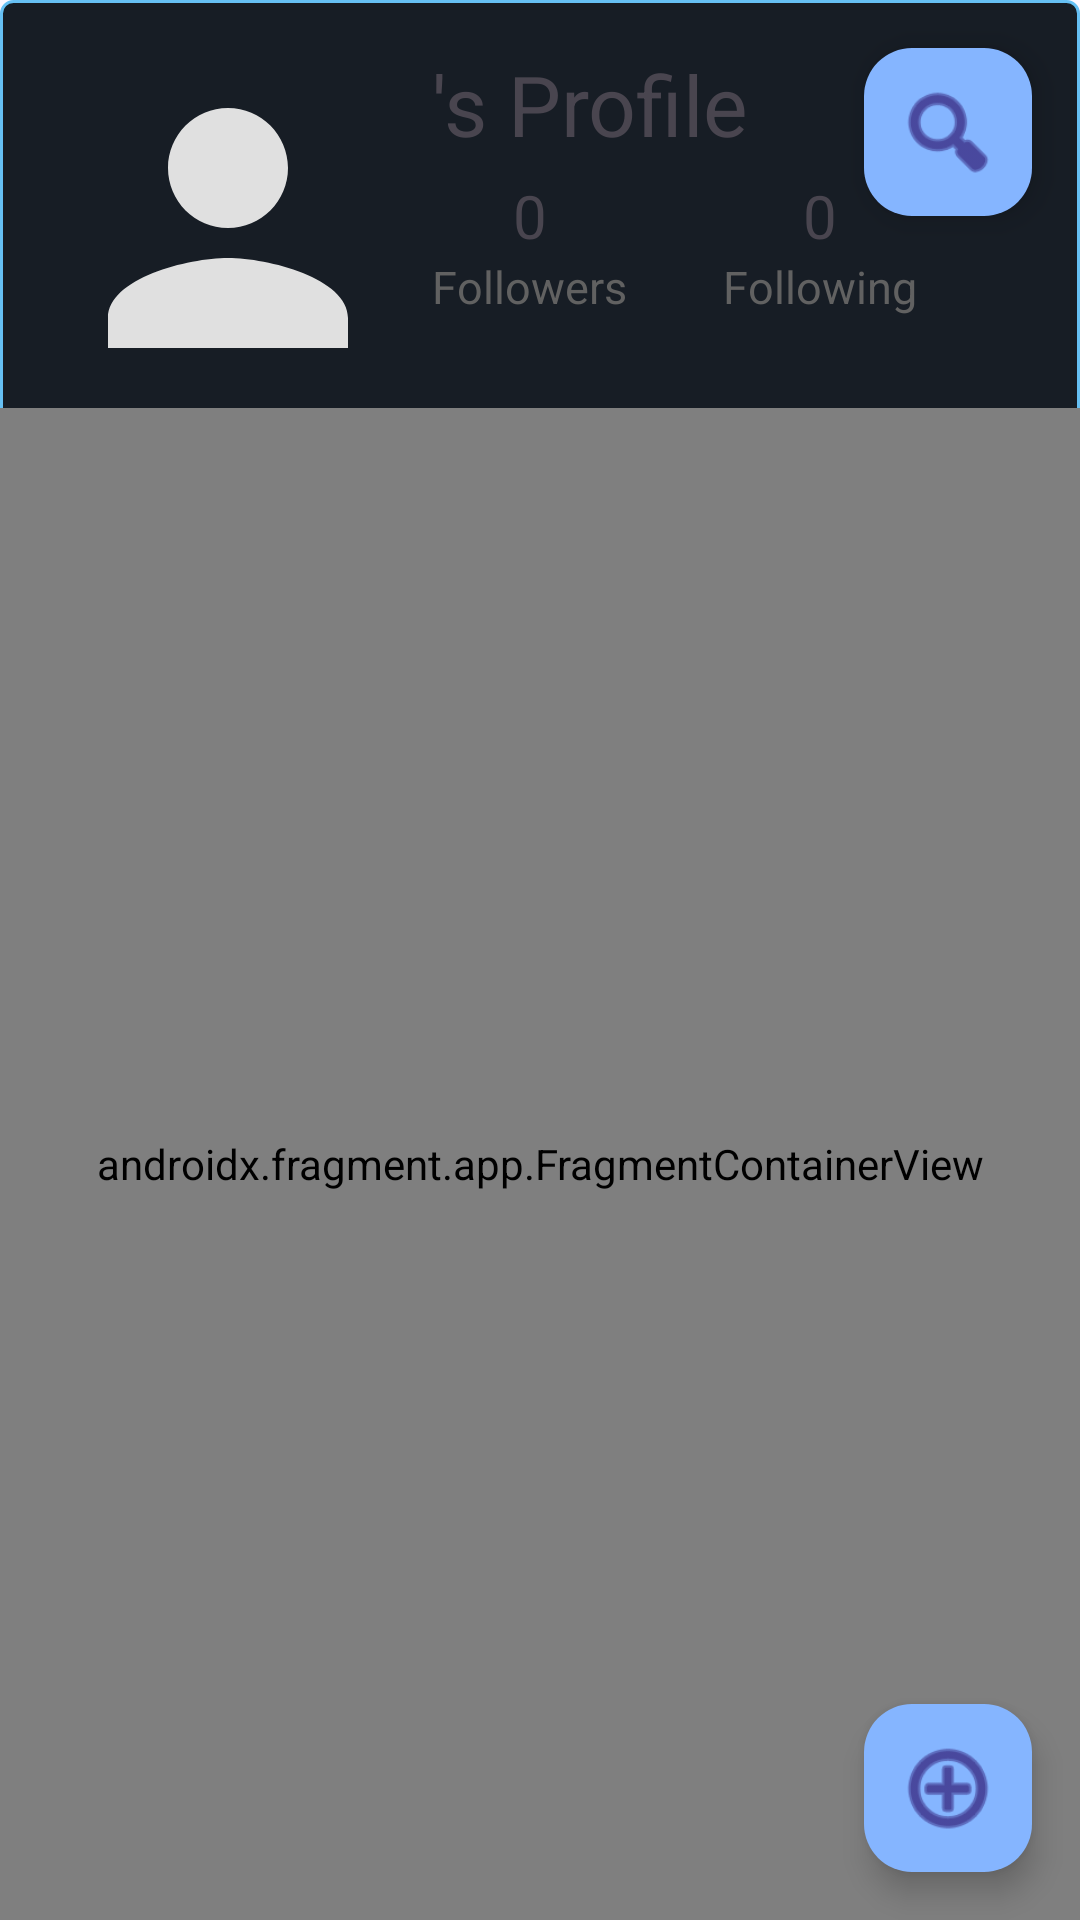

Named icons in this screenshot (1080×1920) and their centers, (x=x, y=y):
add: (x=948, y=1788)
search: (x=948, y=132)
